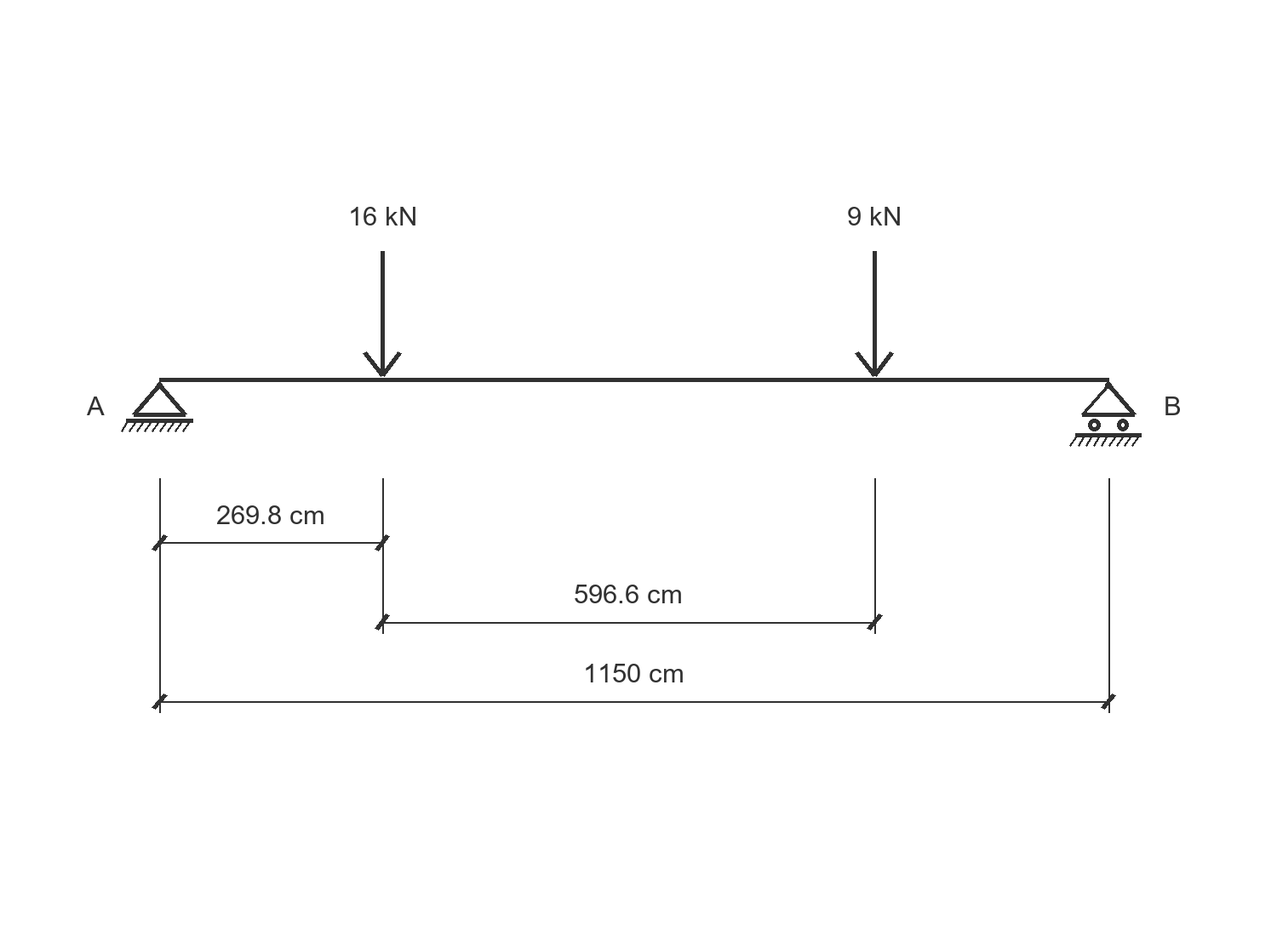pin_support: (121, 382, 193, 432)
point_load: (363, 251, 402, 377), (855, 251, 894, 377)
roller_support: (1069, 382, 1142, 447)
